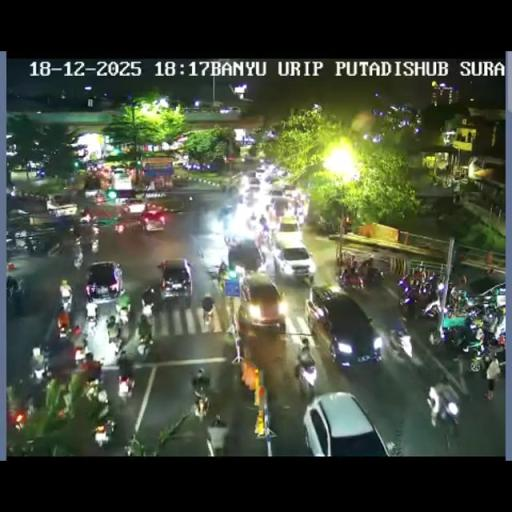Car: (306, 284, 382, 366), (304, 391, 394, 456), (238, 271, 287, 336), (269, 226, 314, 282), (84, 261, 124, 304), (158, 258, 194, 302), (44, 338, 78, 378), (226, 236, 262, 272), (46, 194, 78, 218), (110, 169, 136, 194), (141, 207, 166, 232), (269, 197, 291, 218), (122, 198, 146, 214), (267, 186, 285, 200), (246, 176, 260, 190), (218, 106, 242, 114), (255, 166, 267, 175)
Motorcycle: (10, 356, 116, 449), (104, 300, 152, 386), (428, 384, 460, 446), (398, 274, 442, 318), (434, 314, 477, 357), (468, 338, 502, 376), (386, 326, 416, 362), (294, 358, 318, 399), (206, 413, 229, 452), (56, 314, 82, 344), (454, 348, 472, 391), (52, 233, 78, 260), (94, 416, 116, 447), (449, 278, 468, 308), (192, 390, 210, 420), (117, 372, 135, 402), (361, 265, 384, 288), (342, 268, 366, 290), (462, 302, 486, 324), (84, 377, 104, 403), (205, 254, 224, 278), (136, 333, 154, 358), (107, 328, 124, 354), (35, 366, 53, 390), (492, 309, 506, 339), (78, 214, 100, 232), (316, 216, 338, 234), (234, 330, 246, 363), (201, 304, 215, 330), (218, 204, 234, 226), (85, 299, 98, 325), (59, 289, 73, 312), (5, 234, 21, 254), (141, 299, 154, 322), (73, 342, 87, 363), (81, 326, 93, 350), (116, 309, 130, 329), (256, 230, 270, 250), (12, 410, 26, 430), (217, 272, 227, 294), (294, 207, 306, 225), (24, 237, 36, 255), (71, 221, 82, 240), (301, 270, 314, 286), (415, 267, 427, 284), (73, 250, 84, 268), (246, 214, 258, 230), (6, 282, 16, 300), (226, 184, 238, 198), (90, 235, 99, 253), (106, 314, 116, 330), (259, 216, 268, 233), (114, 220, 124, 234), (349, 260, 358, 274), (94, 194, 106, 203), (484, 266, 494, 276)
